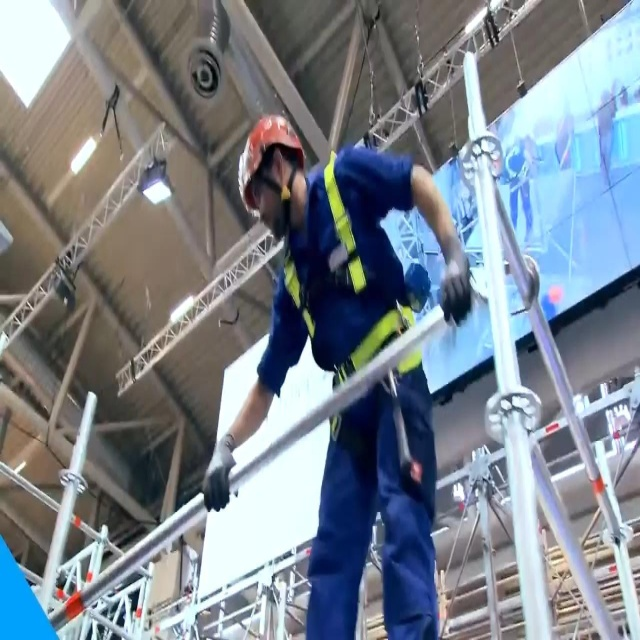Arnes_seguridad: (282, 137, 426, 461)
